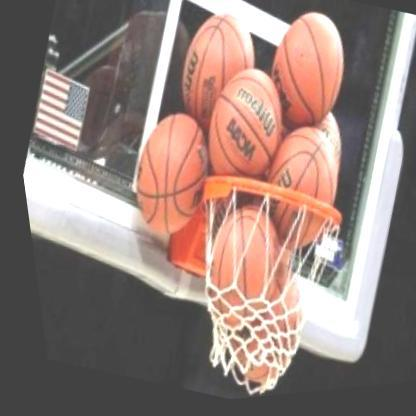basketball: (104, 103, 230, 255), (171, 199, 294, 348), (243, 4, 364, 149), (235, 121, 357, 264), (194, 262, 315, 404), (182, 61, 299, 201), (154, 2, 272, 140)
